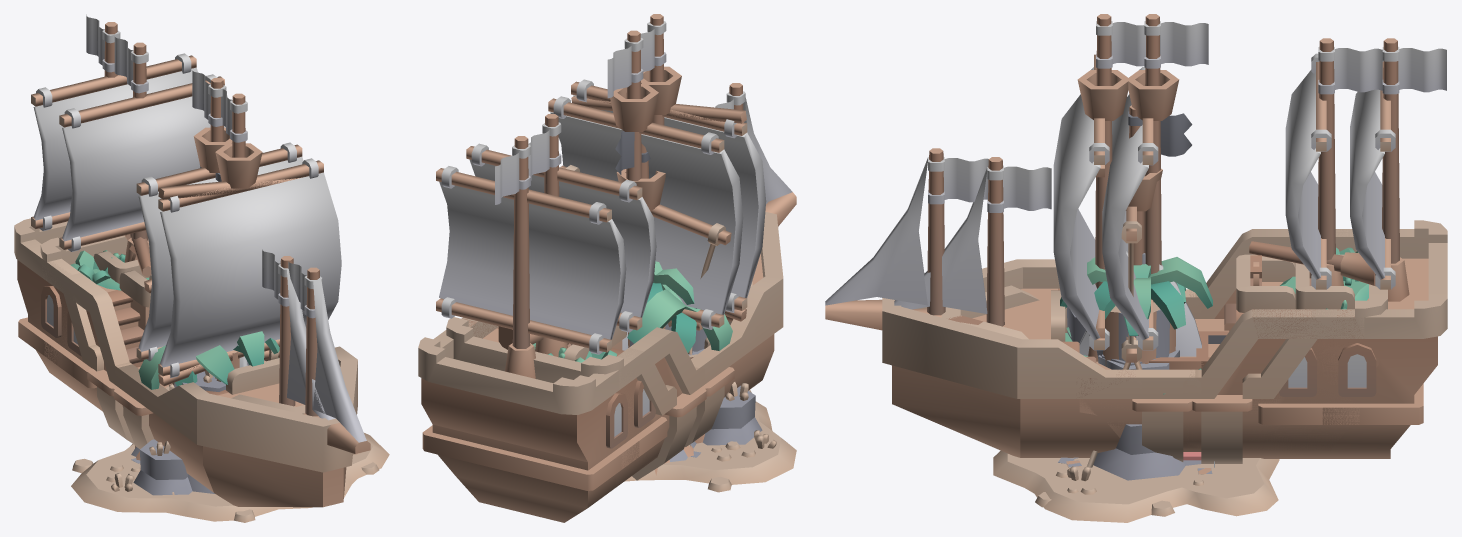
Rendered from stadt.glb.
3 renders of one model, left to right at view 1: azimuth 30°, elevation 25°; view 2: azimuth 150°, elevation 25°; view 3: azimuth 270°, elevation 25°, orthographic. The views are drawn at different scales.
Visible parts, largest first — view 1: hafen/ship-medium, hafen/ship-large, hafen/patch-sand-foliage, hafen/ship-wreck, hafen/rocks-a, hafen/palm-bend, hafen/palm-detailed-straight; view 2: hafen/ship-large, hafen/ship-medium, hafen/patch-sand-foliage, hafen/mast-ropes, hafen/ship-wreck, hafen/rocks-a, hafen/palm-bend, hafen/palm-detailed-straight, hafen/palm-detailed-bend; view 3: hafen/ship-large, hafen/ship-medium, hafen/patch-sand-foliage, hafen/ship-wreck, hafen/mast-ropes, hafen/palm-detailed-straight, hafen/rocks-a, hafen/rocks-sand-b, hafen/rocks-b, boot/boat-sail-b.
Part boxes in pixels (box(x1,y1,x2,y2)): hafen/ship-medium: box(40, 36, 341, 473); hafen/ship-large: box(14, 14, 370, 507); hafen/patch-sand-foliage: box(71, 433, 389, 522); hafen/ship-wreck: box(70, 177, 301, 386); hafen/rocks-a: box(131, 371, 225, 495); hafen/palm-bend: box(138, 345, 234, 389); hafen/palm-detailed-straight: box(237, 331, 279, 366); hafen/ship-large: box(418, 30, 796, 522); hafen/ship-medium: box(446, 14, 766, 487); hafen/patch-sand-foliage: box(624, 390, 796, 492); hafen/mast-ropes: box(560, 131, 731, 446); hafen/ship-wreck: box(461, 96, 746, 362); hafen/rocks-a: box(690, 328, 762, 457); hafen/palm-bend: box(627, 261, 732, 350); hafen/palm-detailed-straight: box(647, 268, 697, 308); hafen/palm-detailed-bend: box(671, 312, 696, 352); hafen/ship-large: box(825, 14, 1447, 463); hafen/ship-medium: box(894, 14, 1387, 461); hafen/patch-sand-foliage: box(993, 450, 1279, 522); hafen/ship-wreck: box(948, 54, 1376, 451); hafen/mast-ropes: box(1087, 105, 1192, 467); hafen/palm-detailed-straight: box(1060, 258, 1212, 335); hafen/rocks-a: box(1058, 306, 1185, 480); hafen/rocks-sand-b: box(1066, 302, 1212, 474); hafen/rocks-b: box(1065, 309, 1212, 473); boot/boat-sail-b: box(1142, 253, 1201, 356).
Bounding box in the file's own units: 7.74 × 10.26 × 13.1.
